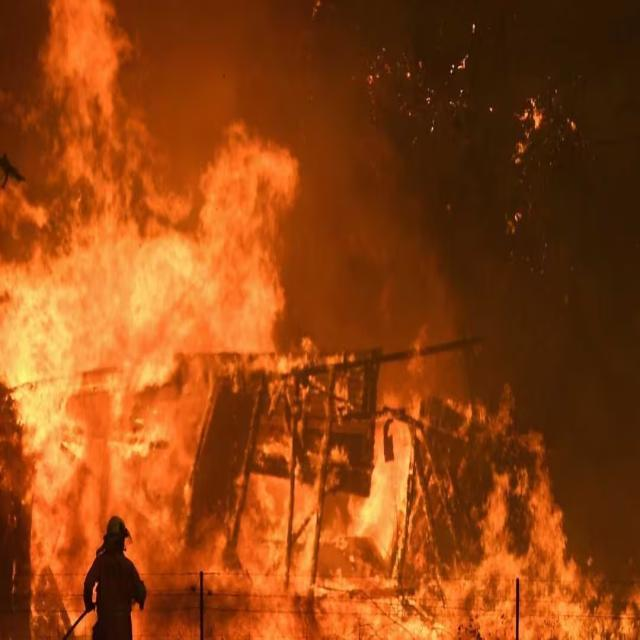Fire: (0, 4, 327, 266), (0, 266, 315, 434), (382, 432, 610, 640), (4, 431, 382, 535)
Smoke: (327, 2, 640, 418)
